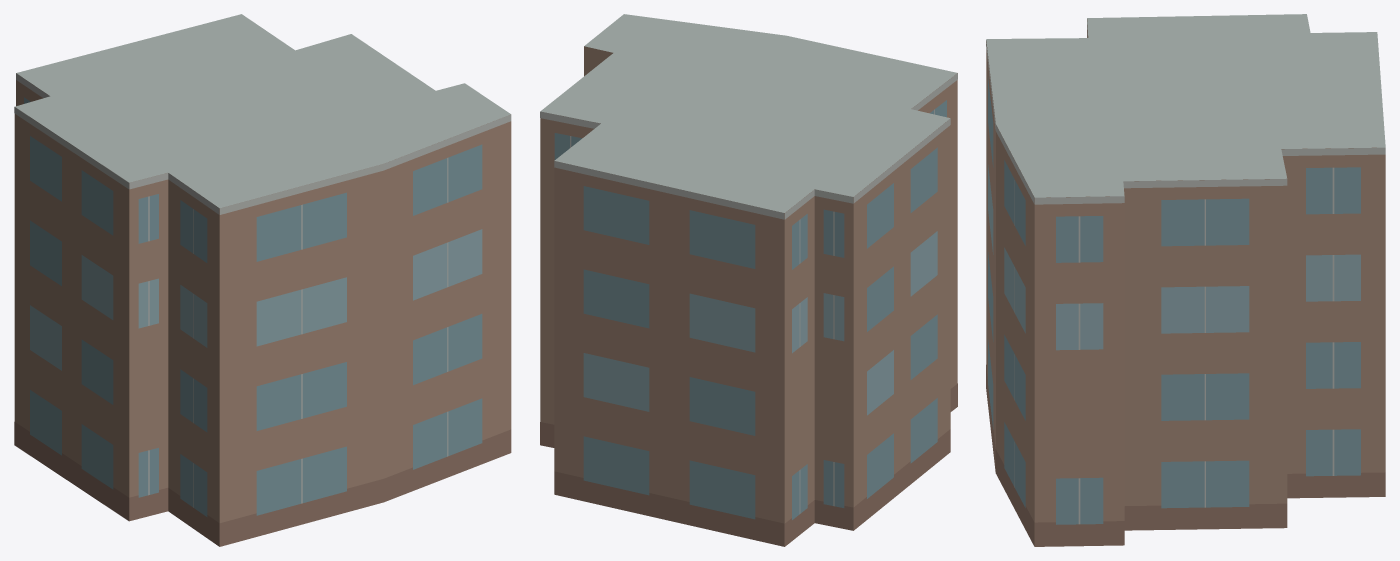
The model's file is survey-upis-32962710.glb.
3 renders of one model, left to right at view 1: azimuth 30°, elevation 25°; view 2: azimuth 150°, elevation 25°; view 3: azimuth 270°, elevation 25°, orthographic. The views are drawn at different scales.
Visible parts, largest first — view 1: survey-upis-32962710.tmp; view 2: survey-upis-32962710.tmp; view 3: survey-upis-32962710.tmp.
Part boxes in pixels (x1=…): survey-upis-32962710.tmp: x1=14, y1=14, x2=511, y2=546; survey-upis-32962710.tmp: x1=540, y1=14, x2=957, y2=546; survey-upis-32962710.tmp: x1=986, y1=14, x2=1385, y2=546.
Bounding box in the file's own units: 13.77 × 12.2 × 12.66.
